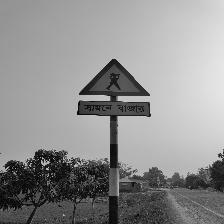Market-in-front: (78, 60, 151, 118)
